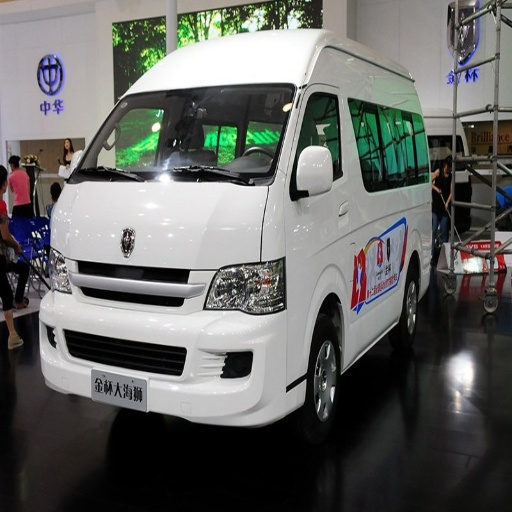front_bumper: (41, 257, 316, 426)
front_glass: (70, 85, 294, 185)
front_left_door: (291, 82, 357, 227), (350, 237, 384, 356)
front_left_light: (205, 257, 284, 314)
front_right_light: (38, 247, 71, 292)
trunk: (372, 189, 425, 259)
